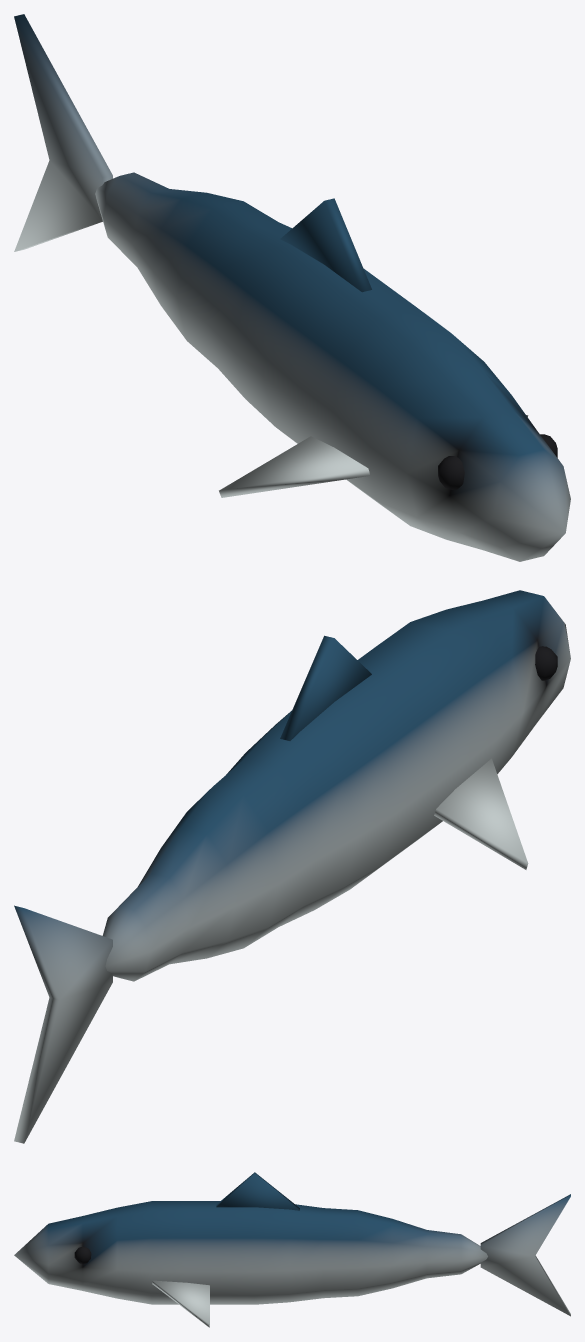
Rendered from sardine.glb.
The picture shows the model from 3 angles, top to bottom: view 1: azimuth 30°, elevation 25°; view 2: azimuth 150°, elevation 25°; view 3: azimuth 270°, elevation 25°; orthographic projection. The views are drawn at different scales.
Visible parts, largest first — view 1: Sardine; view 2: Sardine; view 3: Sardine.
Boxes of the visible parts, x1=… form: Sardine: x1=14, y1=14, x2=570, y2=561; Sardine: x1=14, y1=590, x2=570, y2=1143; Sardine: x1=14, y1=1172, x2=570, y2=1327.
Bounding box in the file's own units: 0.0605 × 0.052 × 0.185.
